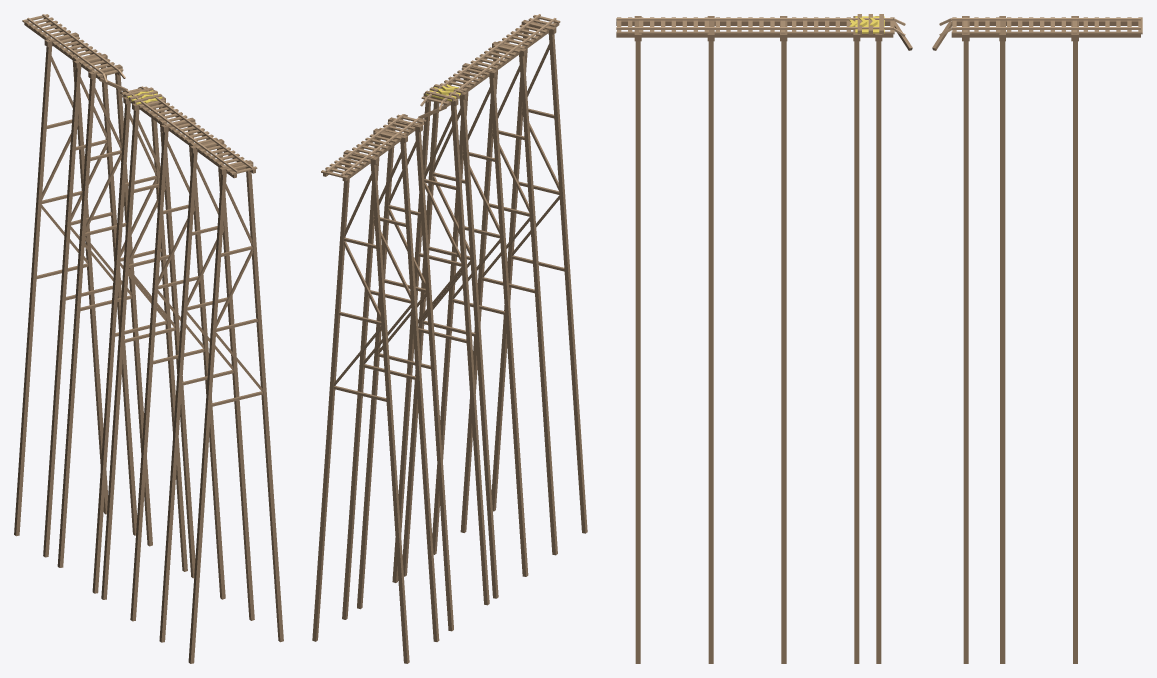
Rendered from MinecartMayhemRailGap.glb.
The picture shows the model from 3 angles, left to right: view 1: azimuth 30°, elevation 25°; view 2: azimuth 150°, elevation 25°; view 3: azimuth 270°, elevation 25°; orthographic projection. The views are drawn at different scales.
Parts seen in each view (by area): view 1: Trestle, Ties, Rails; view 2: Trestle, Ties, Rails; view 3: Trestle, Rails, Ties.
Boxes of the visible parts, box(x1,y1,x2,y2) form: Trestle: box(14, 18, 283, 663); Ties: box(22, 14, 257, 174); Rails: box(27, 14, 253, 172); Trestle: box(312, 18, 587, 663); Ties: box(321, 15, 560, 178); Rails: box(325, 14, 556, 175); Trestle: box(616, 16, 1140, 663); Rails: box(616, 18, 1140, 36); Ties: box(617, 14, 1142, 34).
Size of the model in its own units: 18.53 by 93.04 by 72.2.
